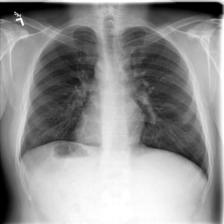normal: (16, 17, 212, 183)
